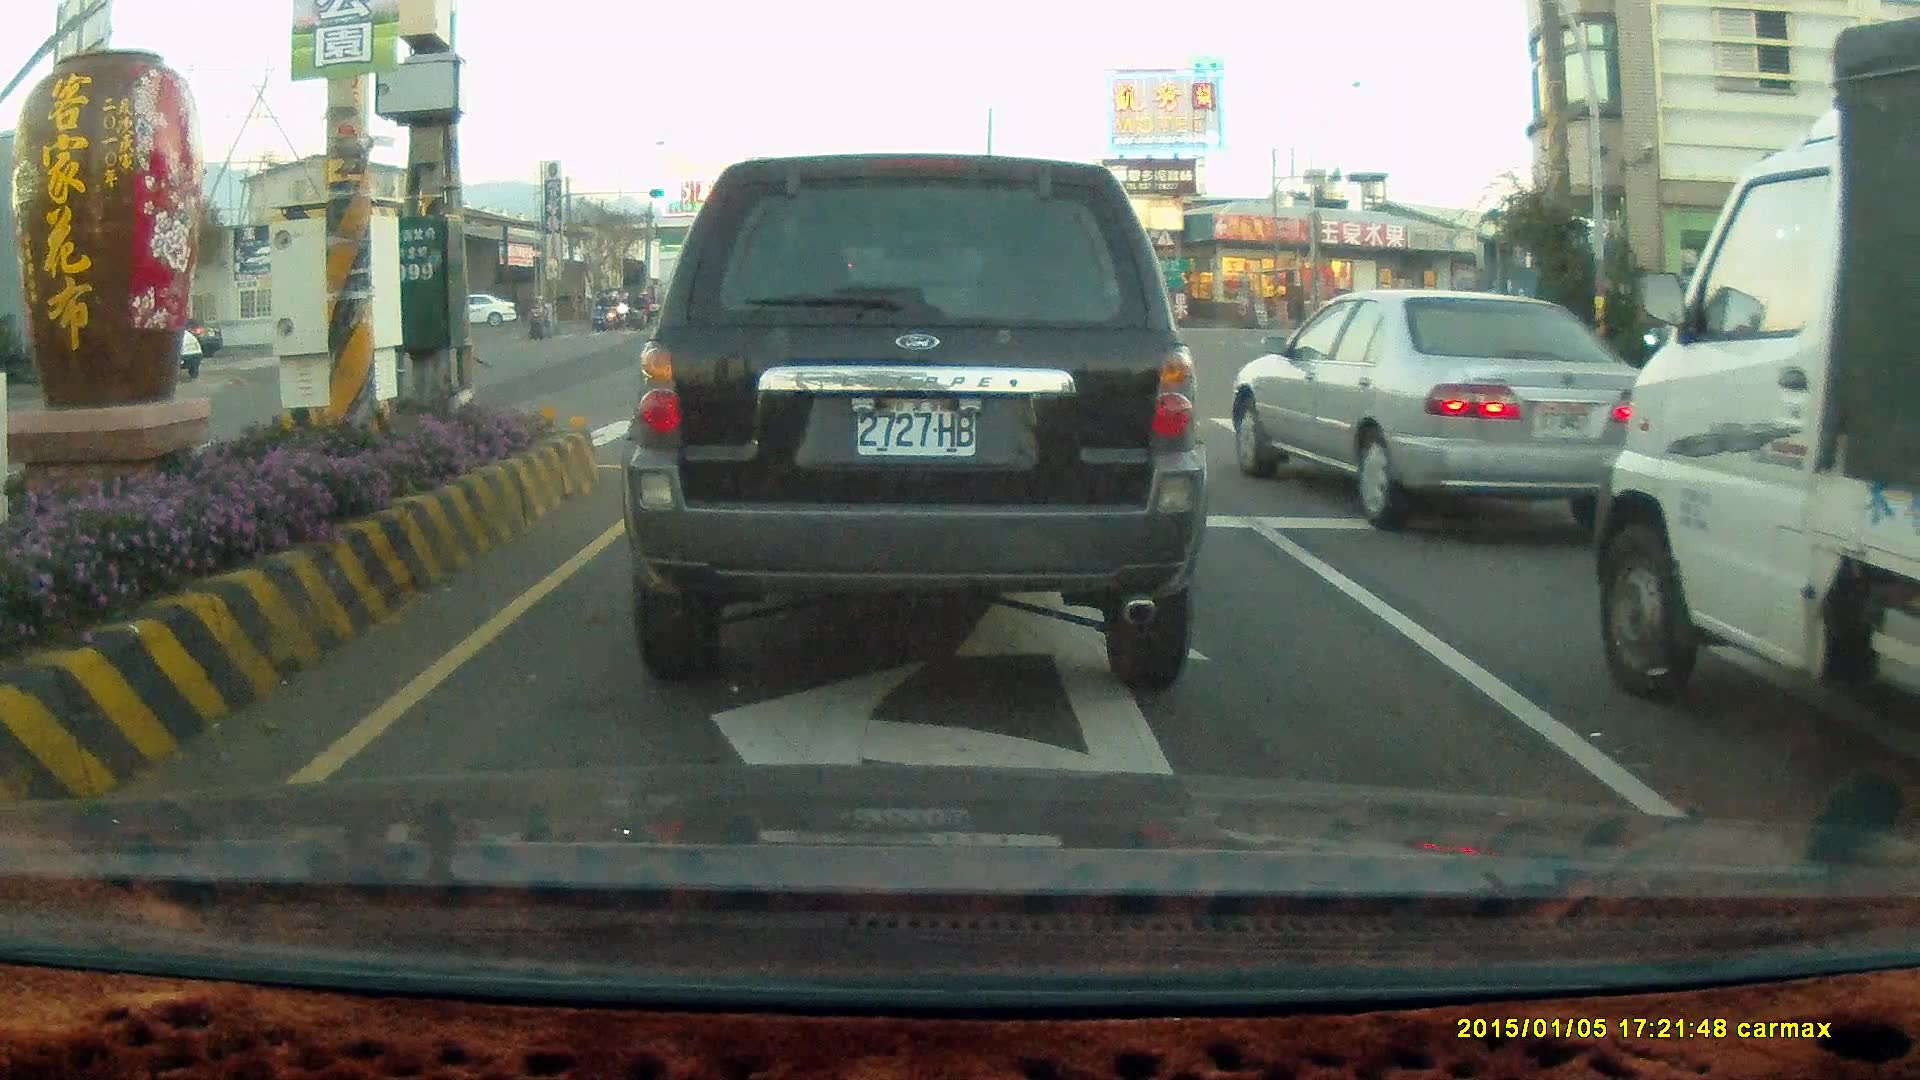rider: (522, 290, 552, 340), (627, 289, 650, 331), (589, 289, 610, 331), (593, 294, 615, 332)
vehicle: (617, 151, 1210, 695), (1588, 13, 1920, 784), (1225, 286, 1660, 530), (1228, 288, 1644, 531), (1671, 279, 1828, 371), (448, 295, 519, 328)
